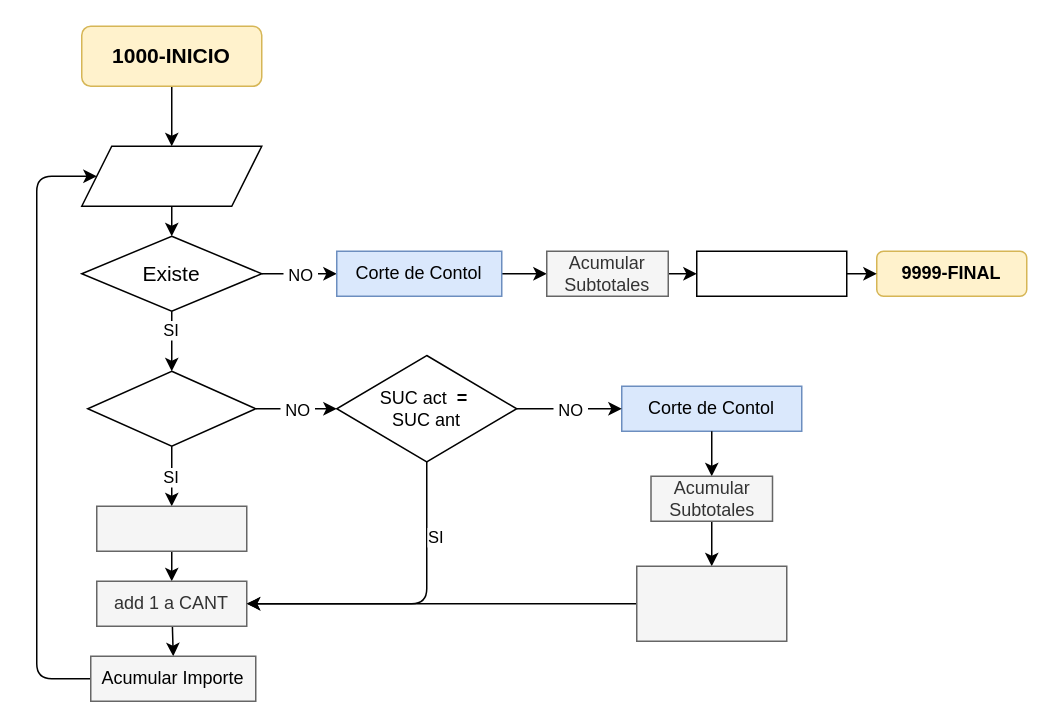
Some shapes in this 1053 by 728 pixel diagram are drawn without their labels. The shapes that lost their labels are listed below. From the top down, each one's centre as x and y in pixels, then its label:
At point (171, 175): "Leer Registro".
At point (771, 273): "Mostrar Totales".
At point (171, 408): "1° Registro".
At point (171, 528): "Setear SUC ant".
At point (711, 603): "Setear SUC ant Importe = 0 Cant = 0".
